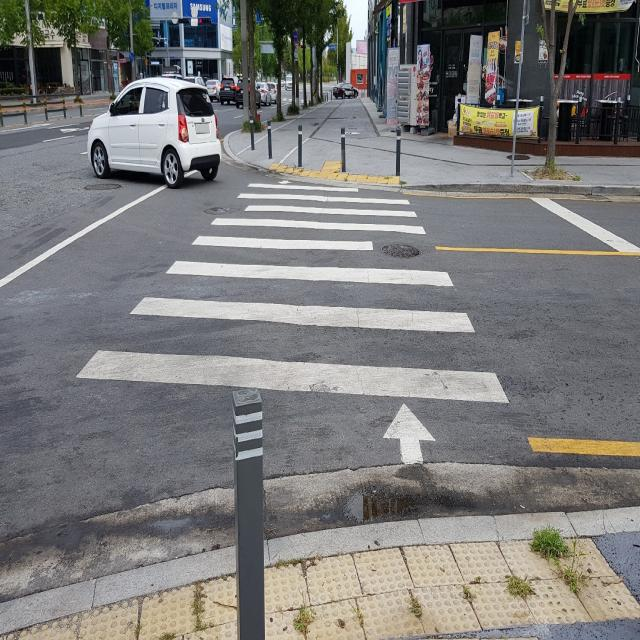횡단보도: (72, 178, 512, 472)
